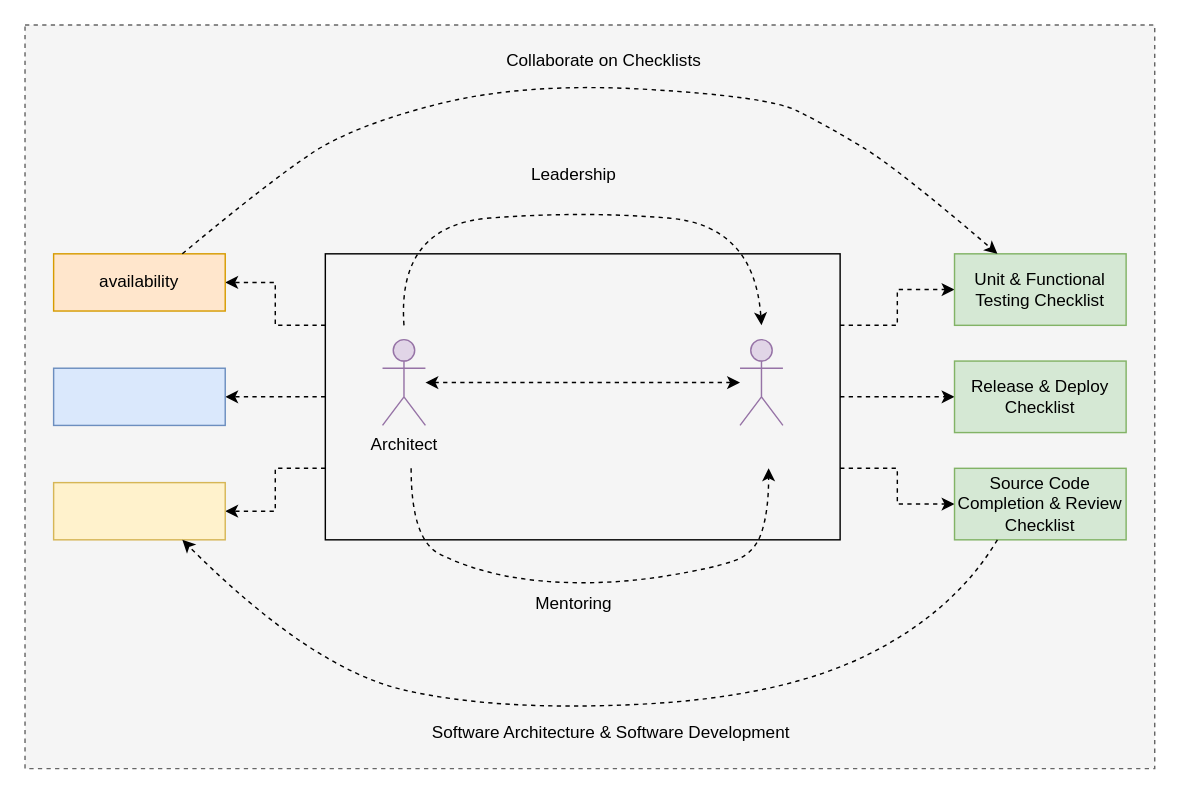
This 1180x794 diagram has some shape labels left out. Each missing label, with the centre of its shape:
Dev Team: (x=761, y=381)
performance: (x=138, y=510)
scalability: (x=138, y=396)
